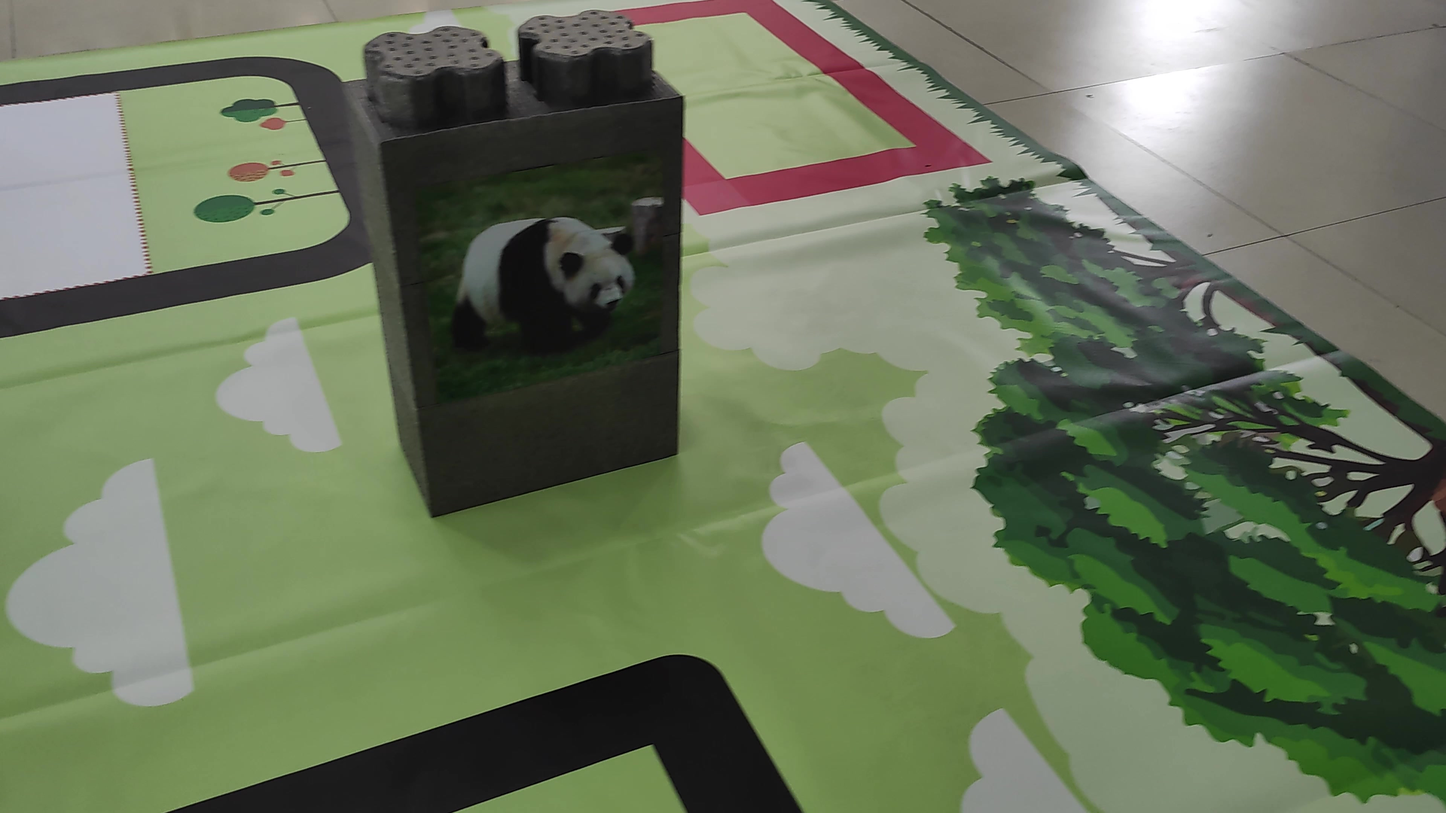panda: (436, 197, 659, 358)
